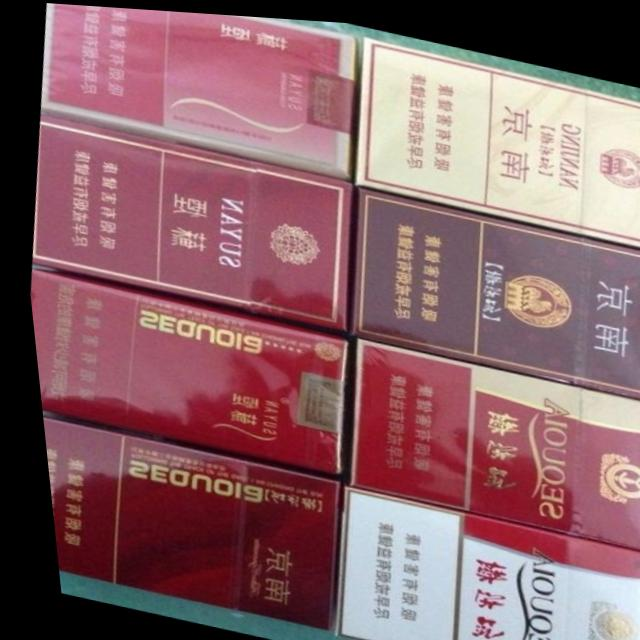box: (27, 113, 350, 326), (24, 268, 341, 470), (340, 333, 640, 546), (34, 417, 330, 627), (348, 182, 640, 393), (352, 33, 640, 242), (38, 2, 358, 177), (320, 481, 640, 640)
